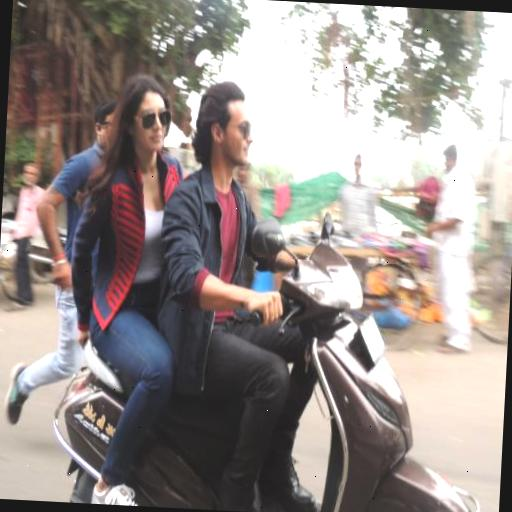no helmet: (167, 49, 278, 197)
